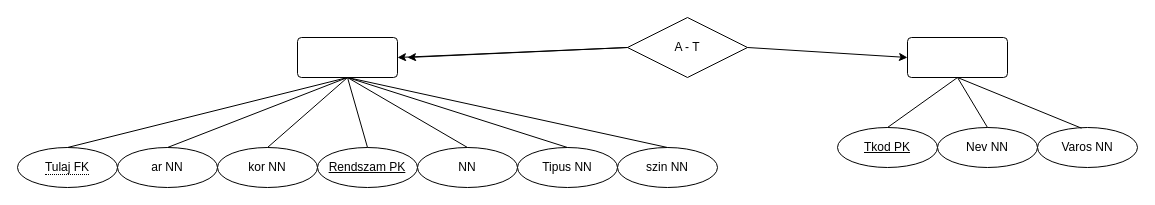
This 1155x205 diagram has some shape labels left out. Here are the shapes that lost their labels. From the top down, the centre of each, then its label:
the point at 347,57: Auto
the point at 957,57: Tulajdonos
